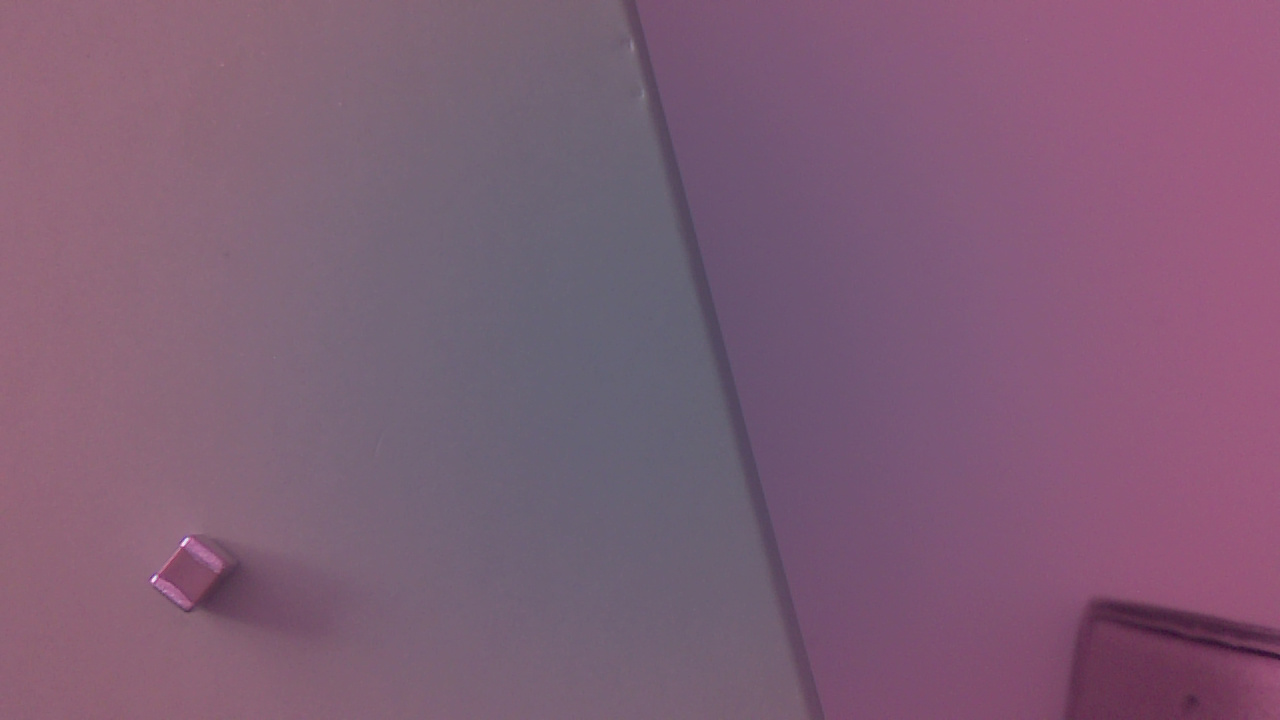Condensator: (147, 534, 252, 620)
